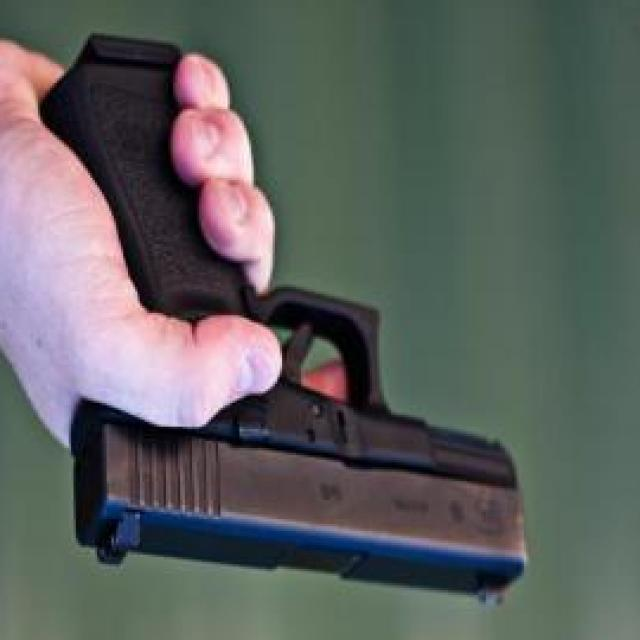pistol: (25, 35, 543, 607)
